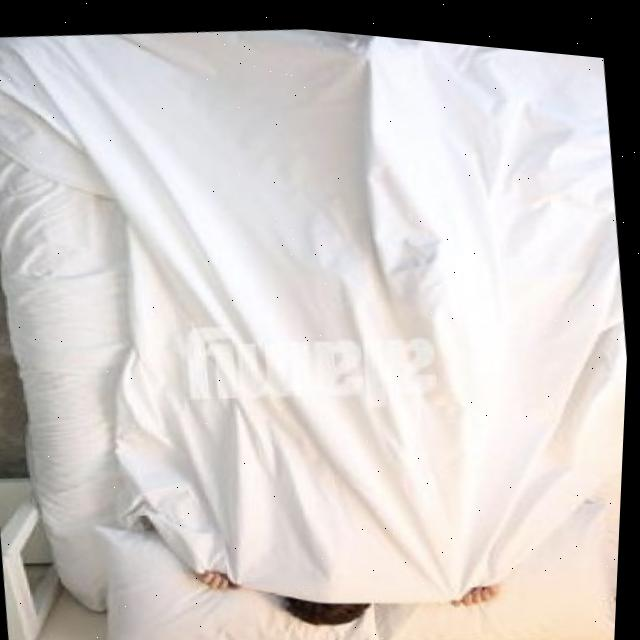sleeping-person: (76, 7, 565, 640)
